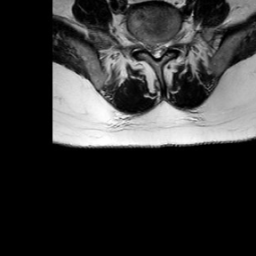CCS_normal: (152, 33, 159, 65)
LFS_normal: (167, 27, 175, 52)
LLS_normal: (159, 32, 167, 60)
RFS_normal: (138, 29, 145, 57)
RLS_normal: (145, 31, 152, 58)
